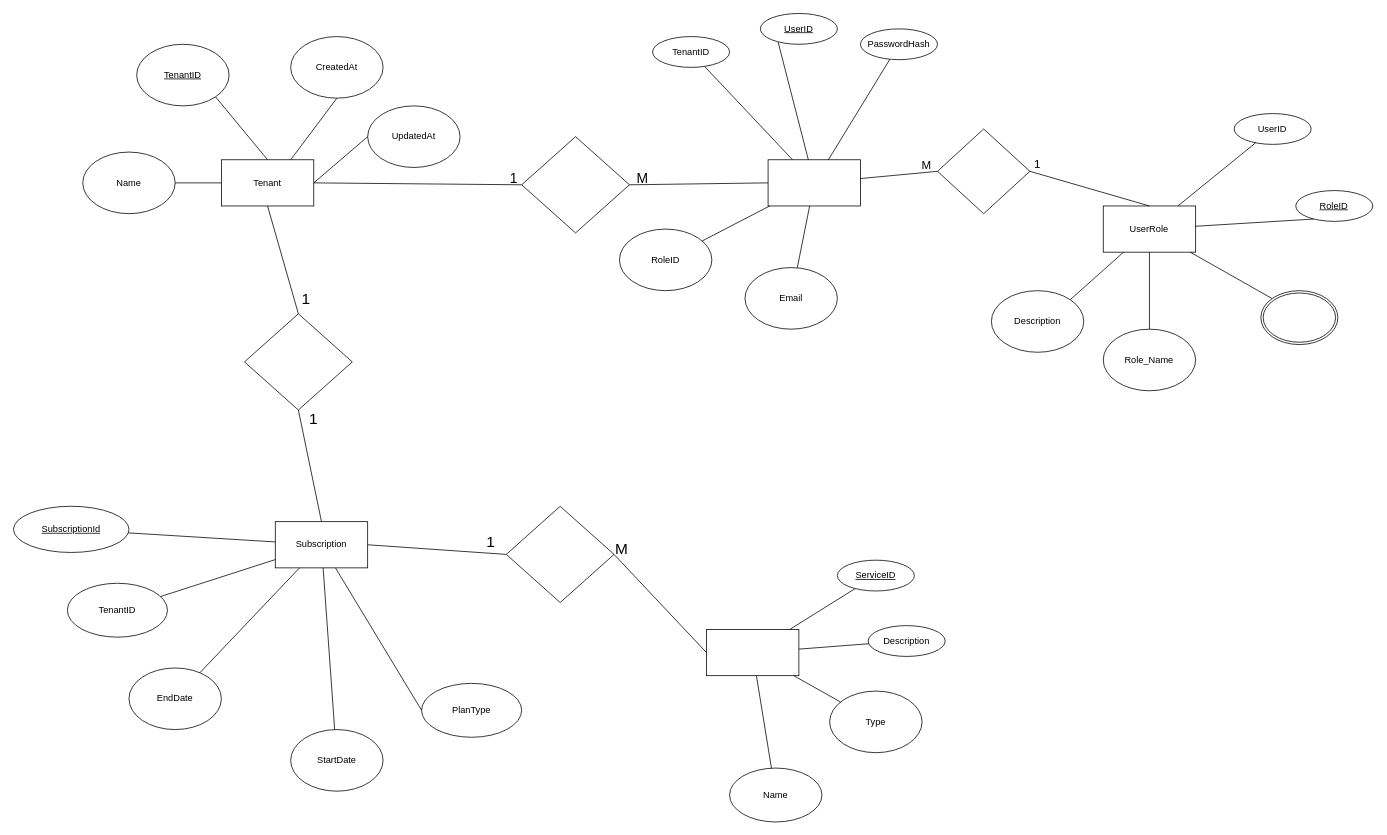
This 1387x835 diagram has some shape labels left out. Each missing label, with the box of its shape:
belongs to: (521, 136, 629, 233)
Has: (937, 128, 1030, 214)
manages: (244, 313, 352, 410)
Permissions: (1260, 290, 1338, 345)
provoides: (506, 506, 614, 603)
Service: (706, 629, 799, 676)
User: (767, 159, 860, 206)
